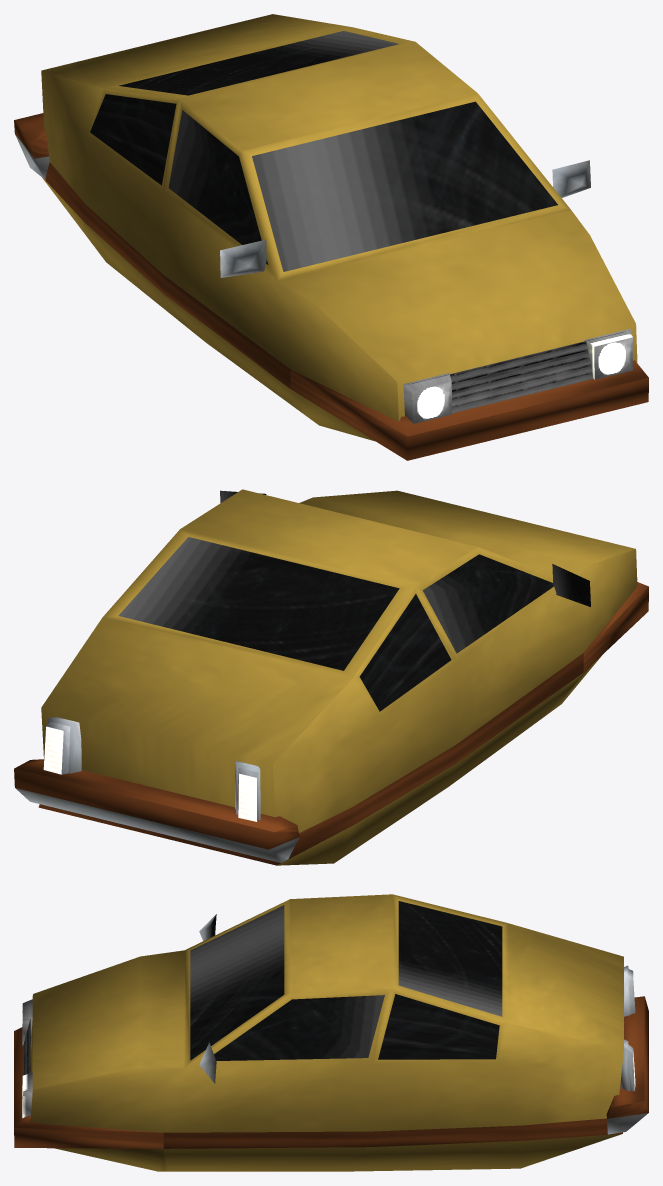
Rendered from EnemyCar_5_v3.fbx.
3 renders of one model, top to bottom at view 1: azimuth 30°, elevation 25°; view 2: azimuth 150°, elevation 25°; view 3: azimuth 270°, elevation 25°, orthographic. The views are drawn at different scales.
Visible parts, largest first — view 1: LilCar2; view 2: LilCar2; view 3: LilCar2.
Part boxes in pixels (x1,y1,x2,y2): LilCar2: [14, 14, 648, 460]; LilCar2: [14, 489, 648, 865]; LilCar2: [14, 894, 648, 1171].
Bounding box in the file's own units: 75.86 × 43.24 × 137.
